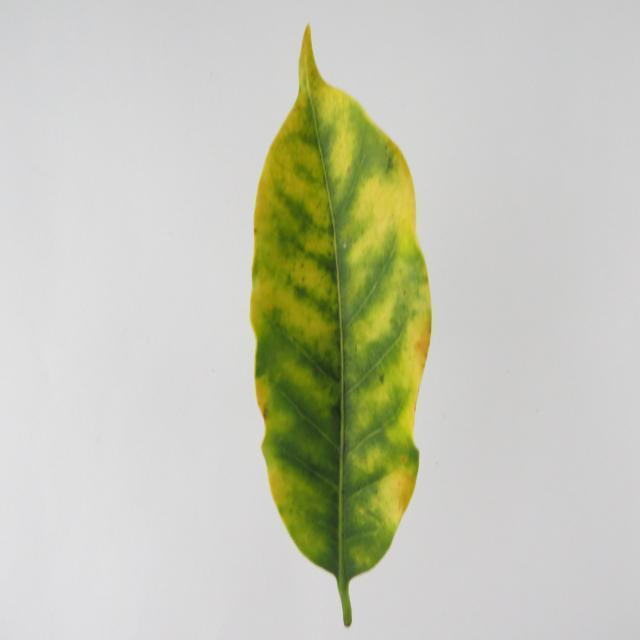DeficienciaNutricional-Manganeso: (251, 27, 431, 625)
